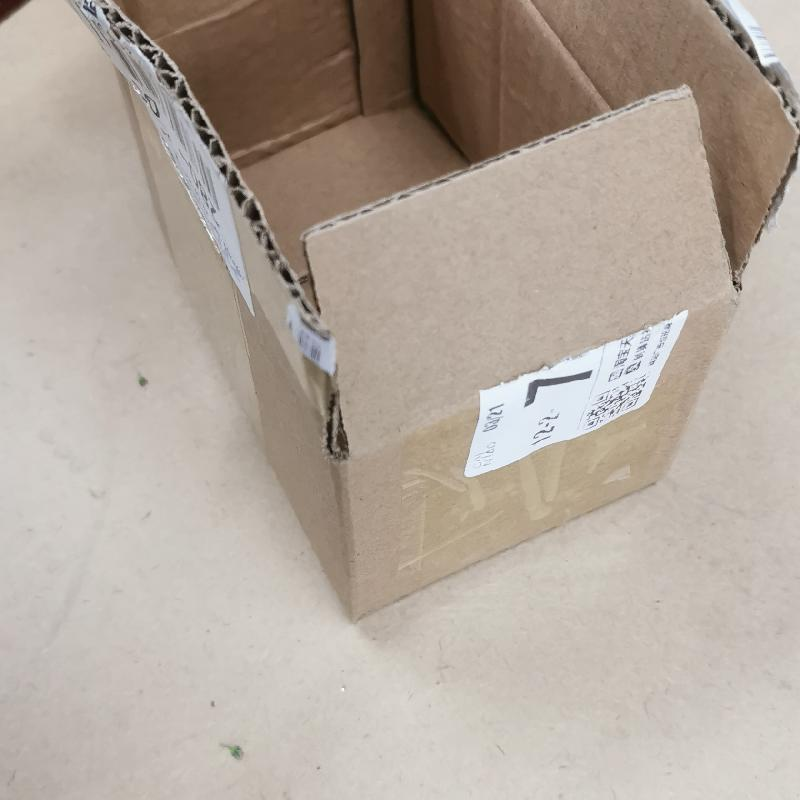boxes: (75, 0, 799, 627)
